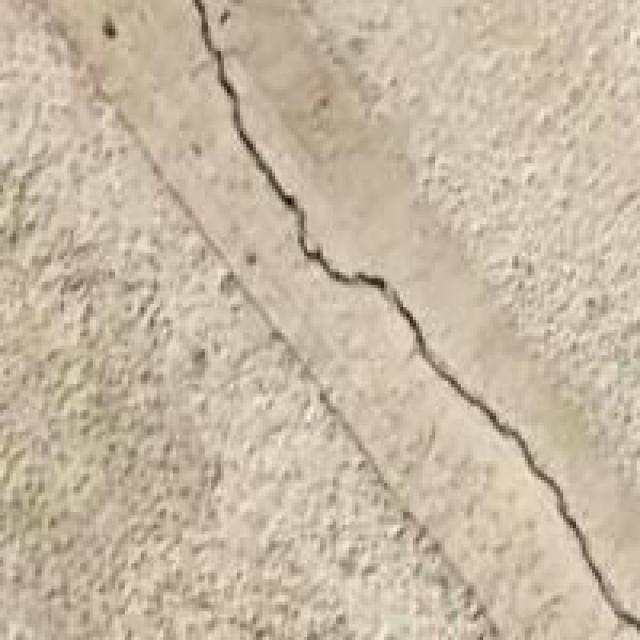crack: (189, 0, 637, 637)
